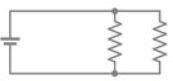resistor: (106, 14, 124, 64), (151, 15, 168, 66)
